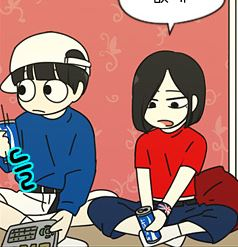hat: (1, 29, 92, 88)
